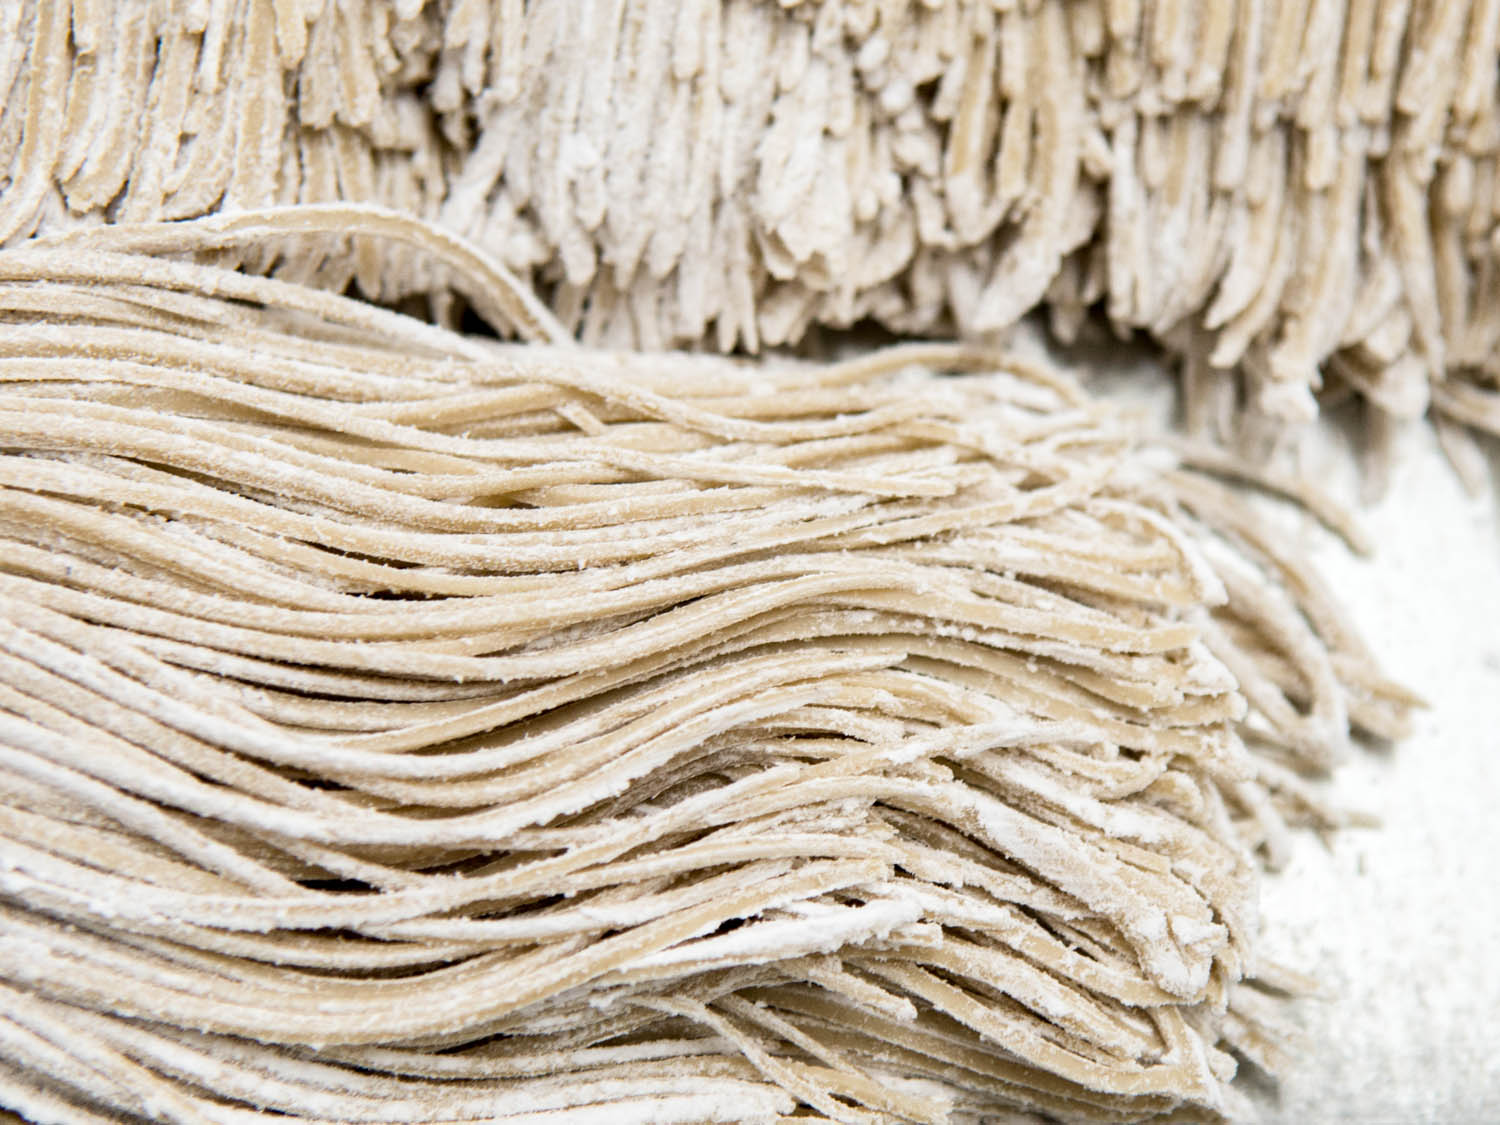Soba: (21, 222, 1272, 1125)
